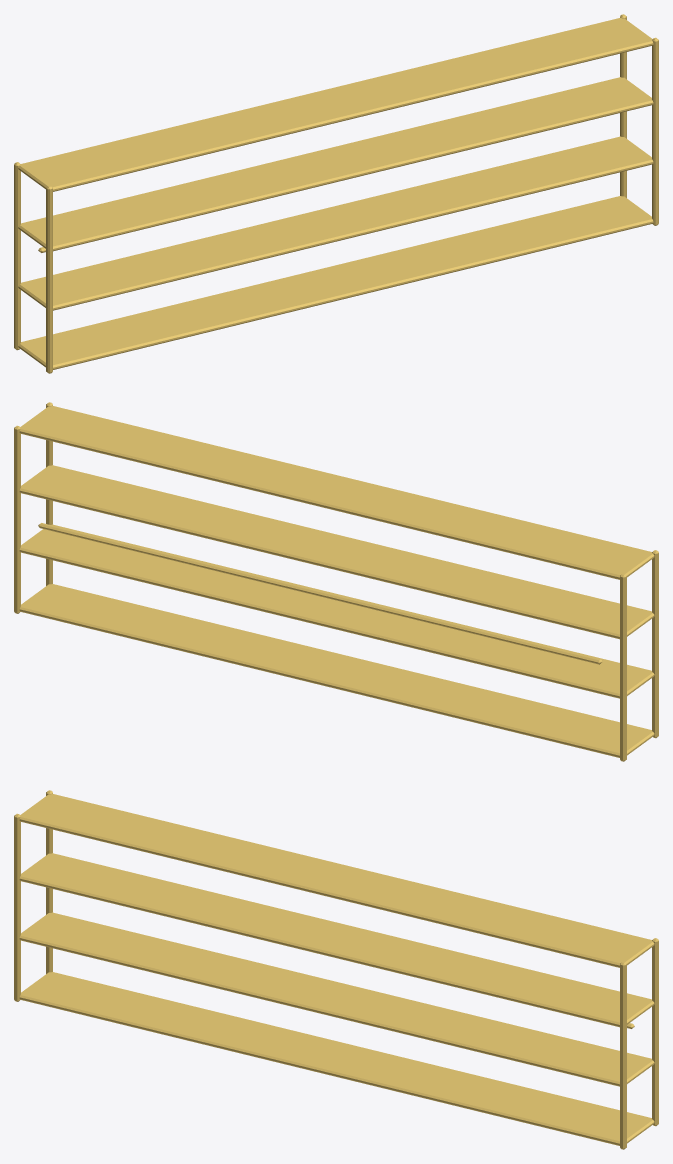
The model's file is SM_Rack_12x3p5x1p2.glb.
3 views of the same model, one above another, from view 1: azimuth 30°, elevation 25°; view 2: azimuth 150°, elevation 25°; view 3: azimuth 330°, elevation 25° (orthographic).
Parts seen in each view (by area): view 1: SM_Rack_12x3p5x1p2; view 2: SM_Rack_12x3p5x1p2; view 3: SM_Rack_12x3p5x1p2.
Boxes of the visible parts, box(x1,y1,x2,y2) form: SM_Rack_12x3p5x1p2: box(14, 14, 658, 373); SM_Rack_12x3p5x1p2: box(14, 402, 658, 761); SM_Rack_12x3p5x1p2: box(14, 790, 658, 1149).
Bounding box in the file's own units: 12 × 3.5 × 1.2.
